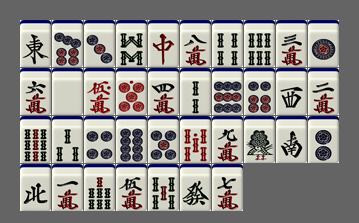0m: (84, 68, 115, 115)
0p: (116, 68, 147, 115)
0s: (180, 116, 211, 163)
1m: (52, 164, 83, 211)
1p: (308, 20, 339, 67)
1s: (244, 116, 275, 163)
1z: (20, 20, 51, 67)
2m: (308, 68, 339, 115)
2p: (308, 116, 339, 163)
2s: (180, 68, 211, 115)
2z: (276, 116, 307, 163)
3m: (276, 20, 307, 67)
3p: (84, 20, 115, 67)
3s: (52, 116, 83, 163)
3z: (276, 68, 307, 115)
4m: (148, 68, 179, 115)
4p: (84, 116, 115, 163)
4s: (212, 20, 243, 67)
4z: (20, 164, 51, 211)
5m: (116, 164, 147, 211)
5p: (148, 116, 179, 163)
5s: (148, 164, 179, 211)
5z: (52, 68, 83, 115)
6m: (20, 68, 51, 115)
6p: (244, 68, 275, 115)
6s: (244, 20, 275, 67)
6z: (180, 164, 211, 211)
7m: (212, 164, 243, 211)
7p: (52, 20, 83, 67)
7s: (84, 164, 115, 211)
7z: (148, 20, 179, 67)
8m: (180, 20, 211, 67)
8p: (116, 116, 147, 163)
8s: (116, 20, 147, 67)
9m: (212, 116, 243, 163)
9p: (212, 68, 243, 115)
9s: (20, 116, 51, 163)
